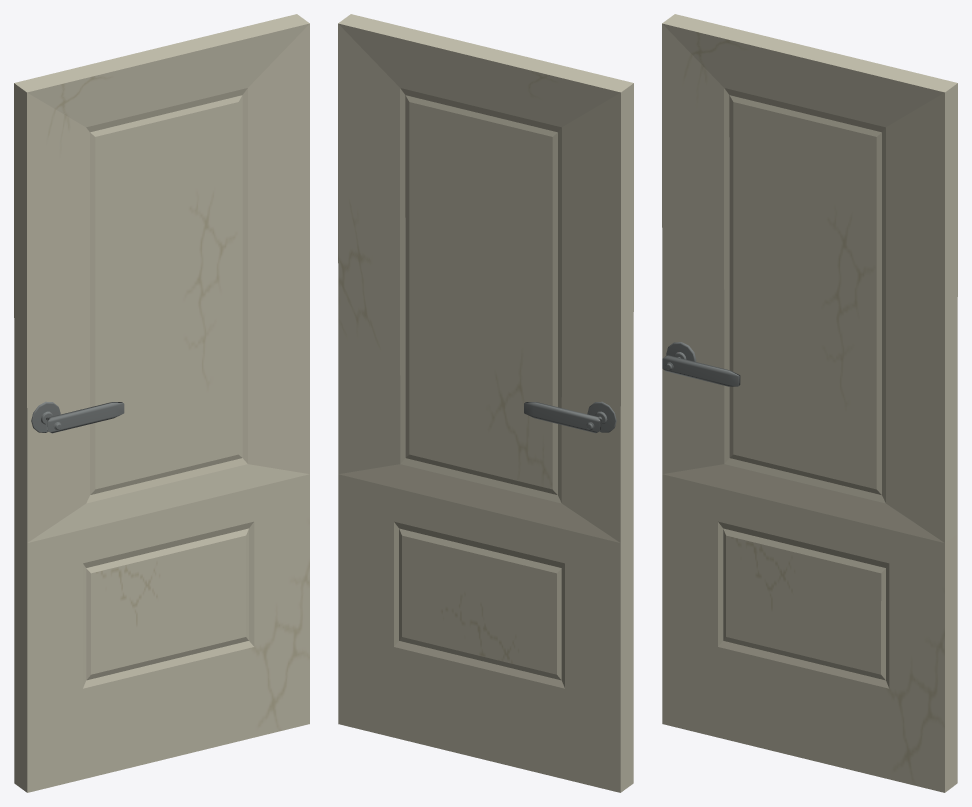
File: InSideDoor.fbx
3 views of the same model, side by side, from view 1: azimuth 30°, elevation 25°; view 2: azimuth 150°, elevation 25°; view 3: azimuth 330°, elevation 25° (orthographic).
Visible parts, largest first — view 1: Door.003; view 2: Door.003; view 3: Door.003.
Boxes of the visible parts, box(x1,y1,x2,y2) form: Door.003: box(14, 14, 309, 792); Door.003: box(338, 14, 633, 792); Door.003: box(662, 14, 957, 792).
Size of the model in its own units: 84.17 by 199 by 20.01.
